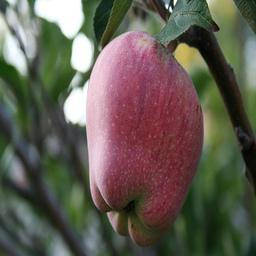apple: (85, 29, 202, 240)
